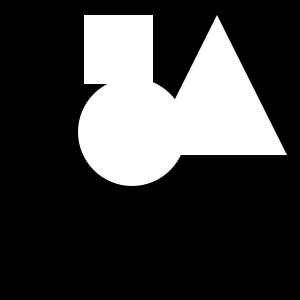circle: (84, 15, 153, 84)
rectangle: (78, 78, 186, 186)
triangle: (147, 15, 287, 155)
